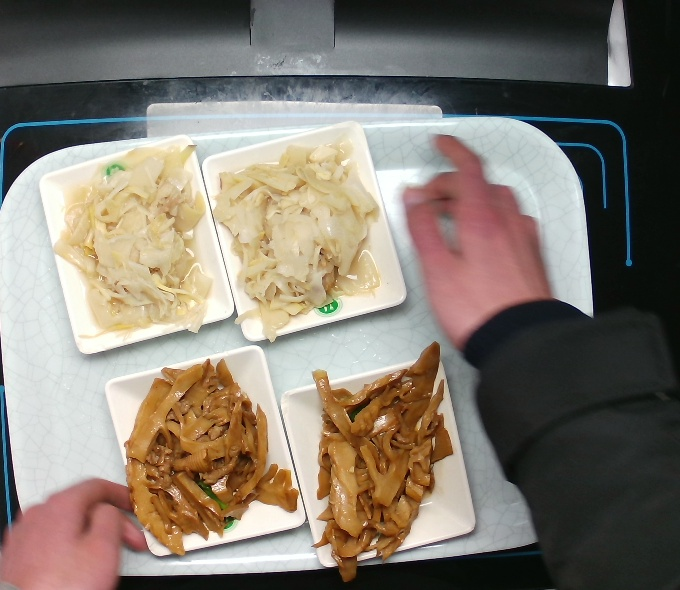wcq-LuSun: (208, 139, 389, 334), (50, 139, 218, 343)
wcq-SunGan: (303, 335, 462, 585), (119, 357, 300, 560)
